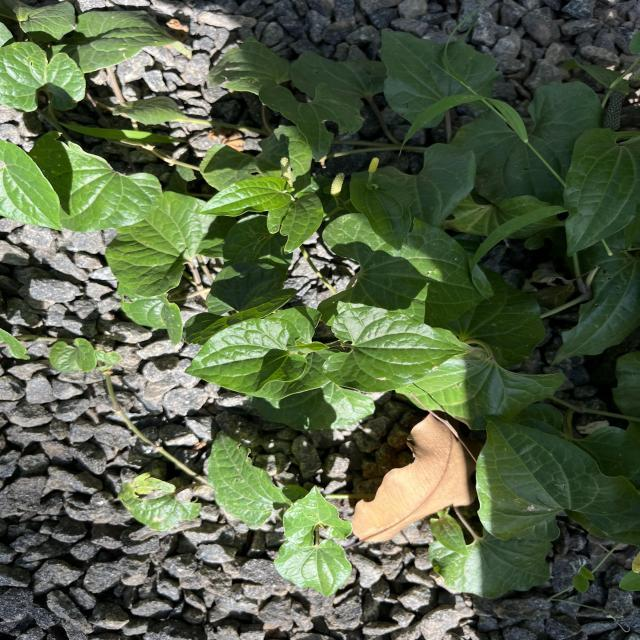Piper longum: (474, 412, 640, 542), (320, 305, 470, 394), (183, 316, 309, 394)
